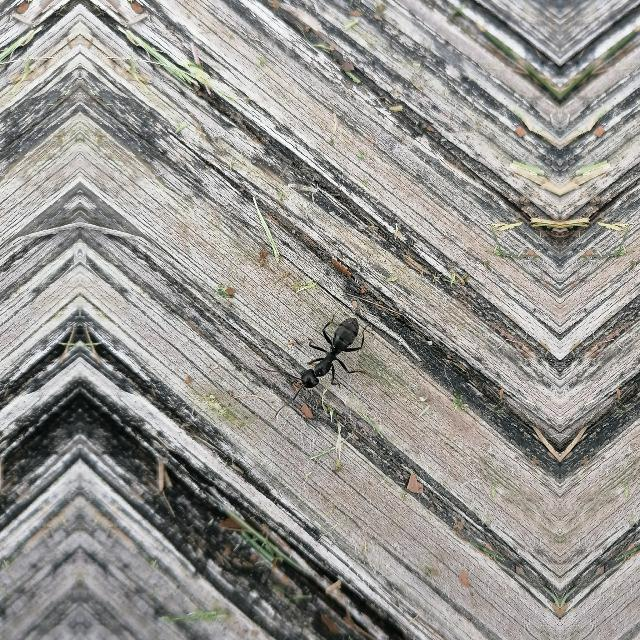Camponotus: (275, 306, 371, 410)
